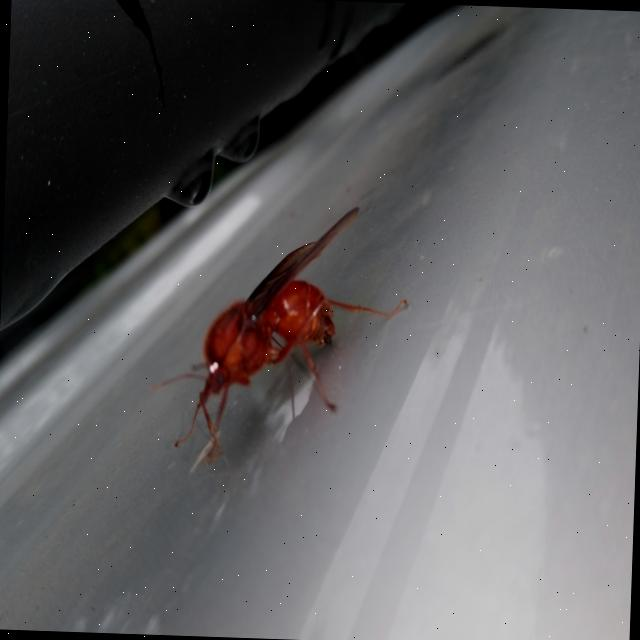Alive-Male-Alate: (147, 198, 411, 474)
